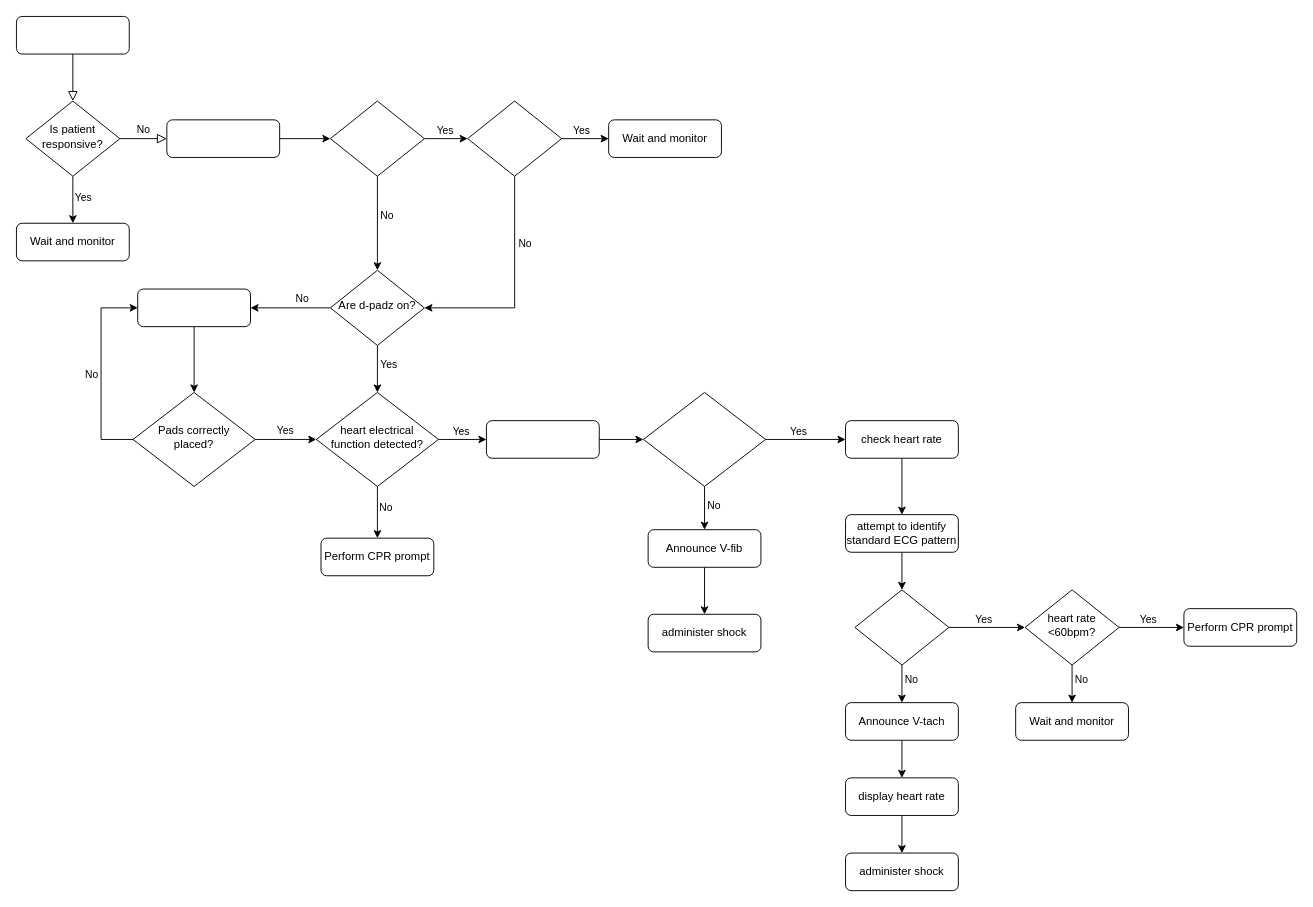
Some shapes in this 1313 by 907 pixel diagram are drawn without their labels. The centre of each missing label's shape, as x and y in pixels:
"CHECK ELECTRODE PADS": point 194,307
Check breathing: point 223,138
Check responsiveness: point 72,35
Is breathing normal?: point 514,138
Is patient breathing?: point 376,138
Is rhythm regular?: point 704,439
monitor for changes in QRS complex over 6 seconds: point 542,439
pattern identified?: point 901,627
